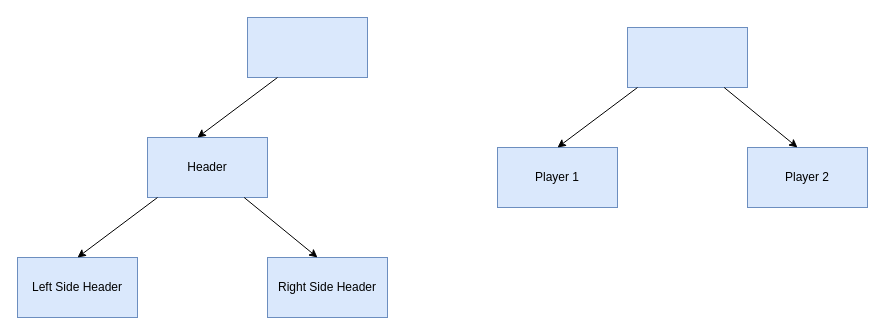
Some shapes in this 885 by 335 pixel diagram are drawn without their labels. The shapes that lost their labels are listed below. From the top down, each one's centre as x and y in pixels, then its label:
point 307,47: Main
point 687,57: Game
